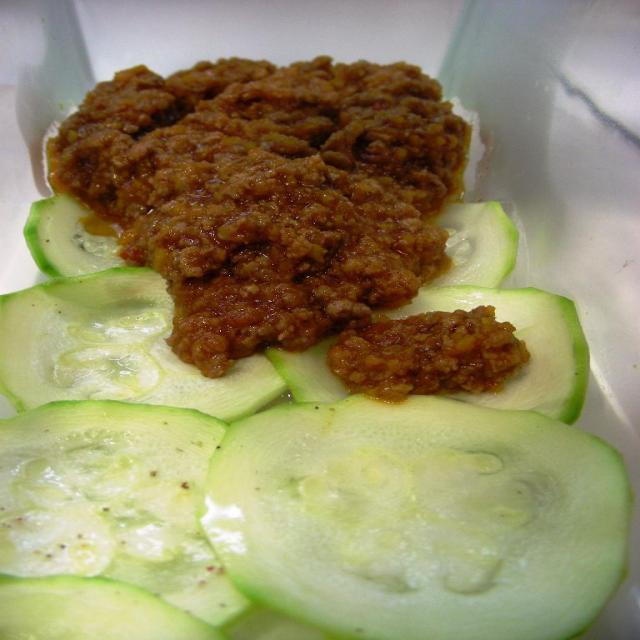Cucumber: (0, 195, 639, 639)
